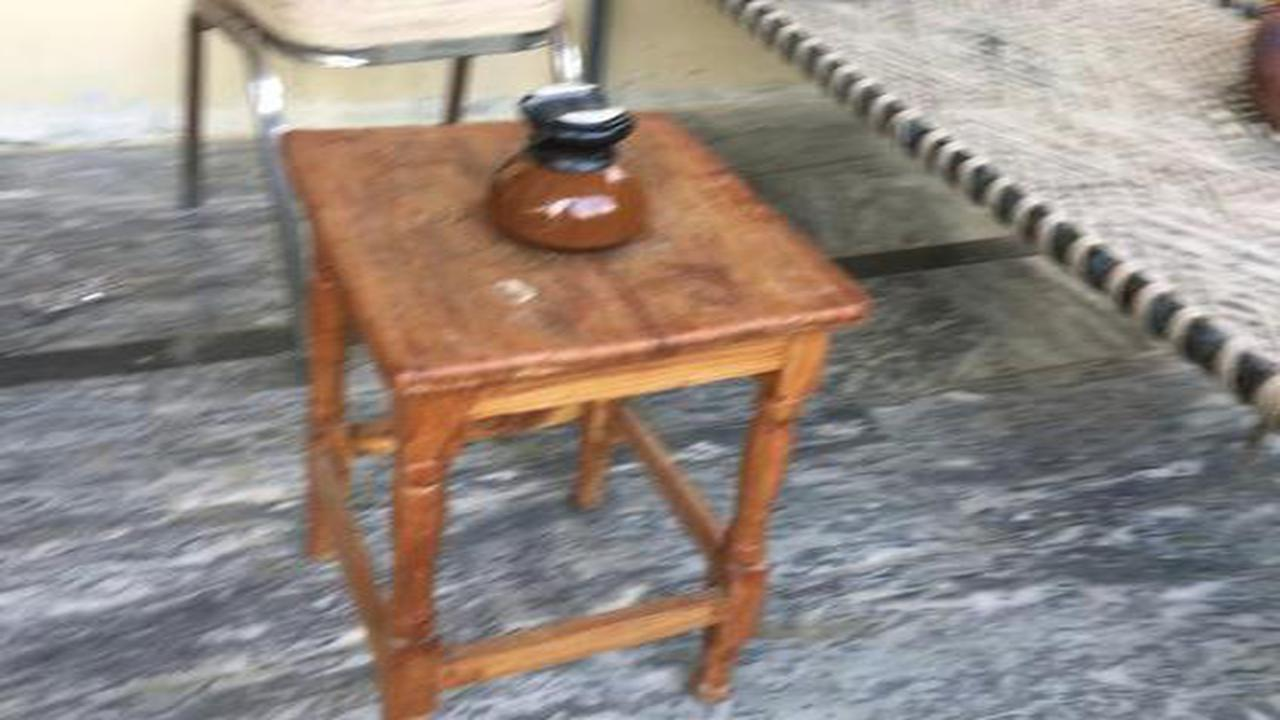insulator_pin: (477, 77, 662, 271)
